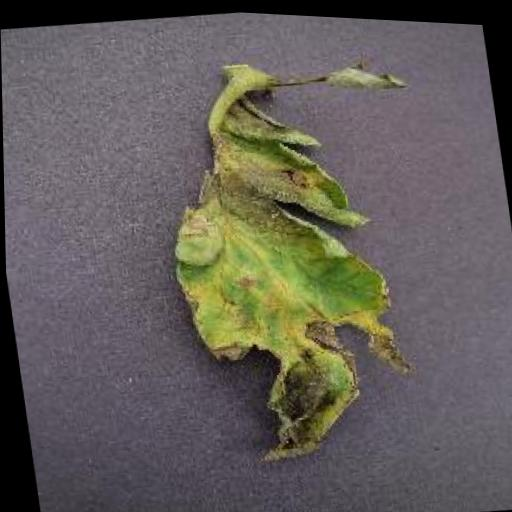Late Blight: (149, 36, 459, 482)
